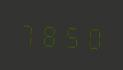eight: (39, 18, 59, 49)
five: (60, 19, 80, 50)
seven: (18, 17, 38, 48)
zero: (81, 21, 101, 52)
